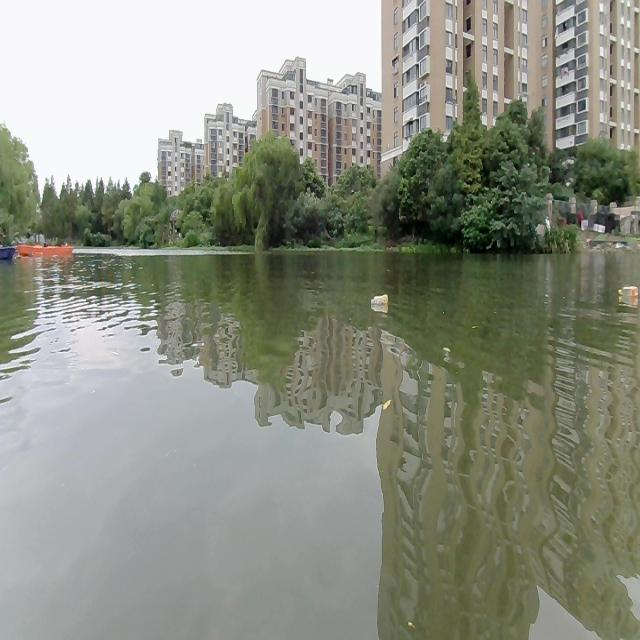bottle: (618, 282, 638, 298), (369, 293, 388, 306)
